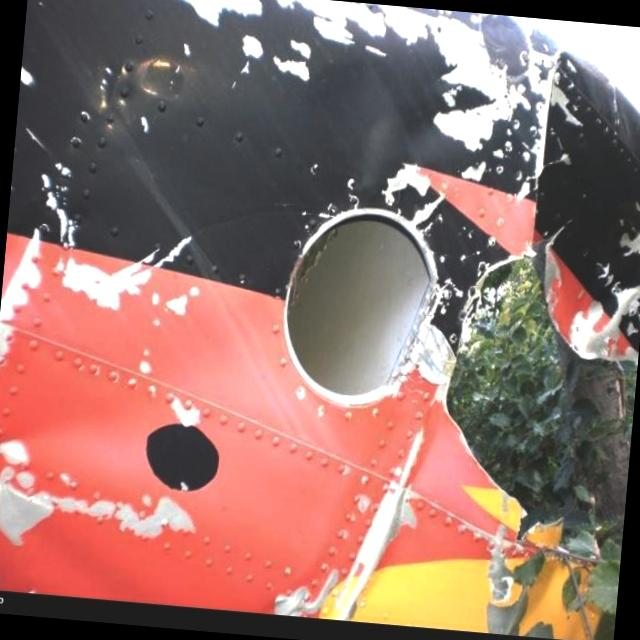dent: (12, 388, 148, 476), (348, 110, 392, 194), (396, 118, 441, 168)
